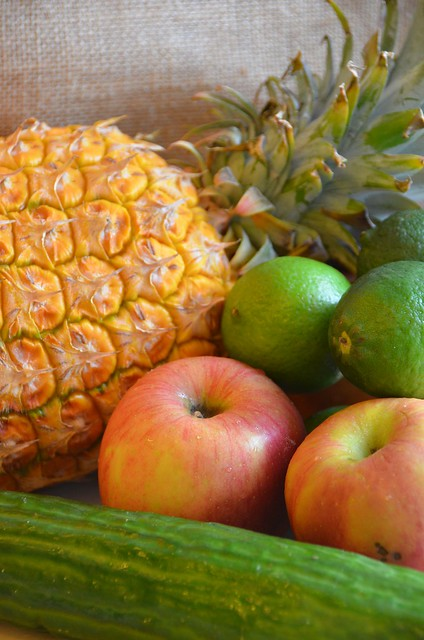apple: (91, 351, 306, 557), (282, 394, 424, 589)
